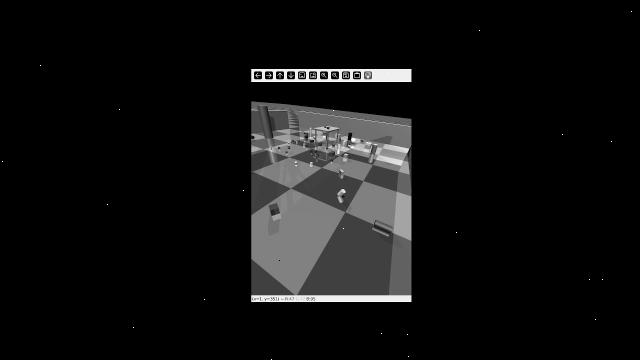cilindro: (371, 215, 397, 240), (257, 103, 273, 138), (335, 187, 348, 198), (372, 143, 377, 155), (250, 134, 257, 140), (308, 127, 313, 135), (267, 144, 271, 151), (331, 158, 336, 163), (348, 132, 351, 140), (338, 143, 341, 150), (301, 142, 306, 146), (339, 137, 342, 142), (316, 154, 318, 160), (318, 137, 320, 143), (310, 149, 313, 153), (291, 139, 294, 142), (329, 125, 331, 127)
cuadrado: (264, 201, 282, 219), (364, 142, 372, 150), (343, 153, 349, 160), (335, 134, 342, 140), (317, 142, 323, 147), (309, 162, 314, 166), (304, 135, 308, 138), (327, 126, 330, 130), (315, 150, 319, 153), (296, 140, 299, 144), (277, 147, 281, 149), (288, 147, 291, 149)
esfera: (350, 138, 357, 145), (322, 130, 326, 135), (294, 161, 298, 165), (312, 135, 317, 138), (316, 153, 321, 156), (323, 125, 327, 128), (332, 143, 336, 146), (287, 140, 290, 144), (325, 146, 328, 149), (285, 150, 288, 153), (348, 145, 351, 148), (287, 144, 291, 146), (361, 139, 364, 141), (361, 139, 362, 141)
rectangulo: (328, 150, 336, 157), (338, 170, 345, 177), (342, 140, 347, 145), (309, 140, 315, 143)
